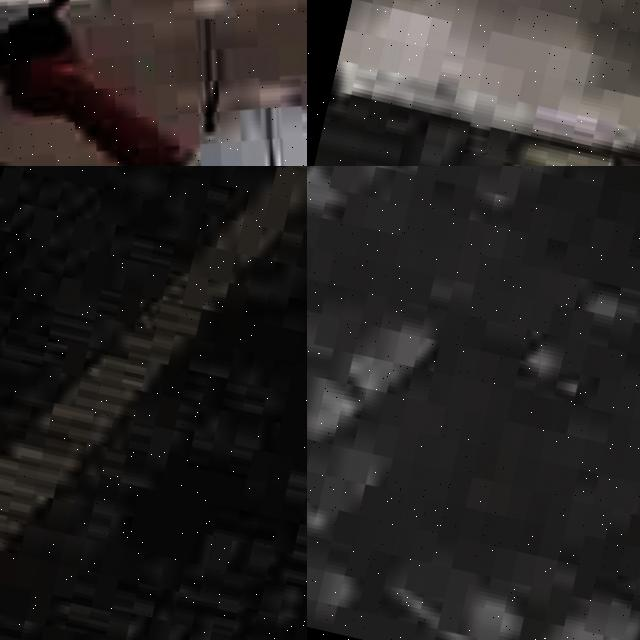drone: (0, 0, 307, 166)
